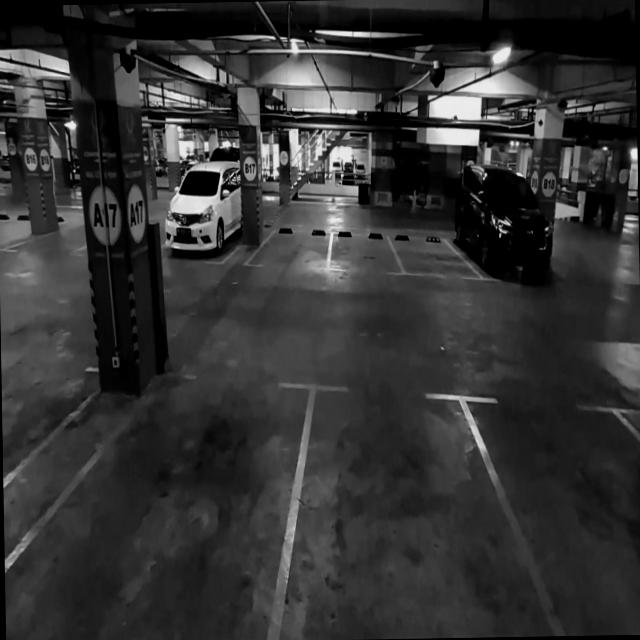car: (454, 187, 556, 286), (162, 169, 243, 262)
free: (25, 371, 310, 640), (289, 385, 525, 640), (488, 396, 640, 631), (250, 222, 330, 272), (325, 228, 398, 276), (394, 235, 464, 283)
